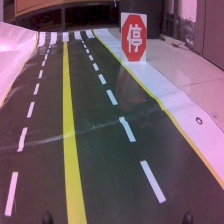stop: (120, 10, 148, 66)
